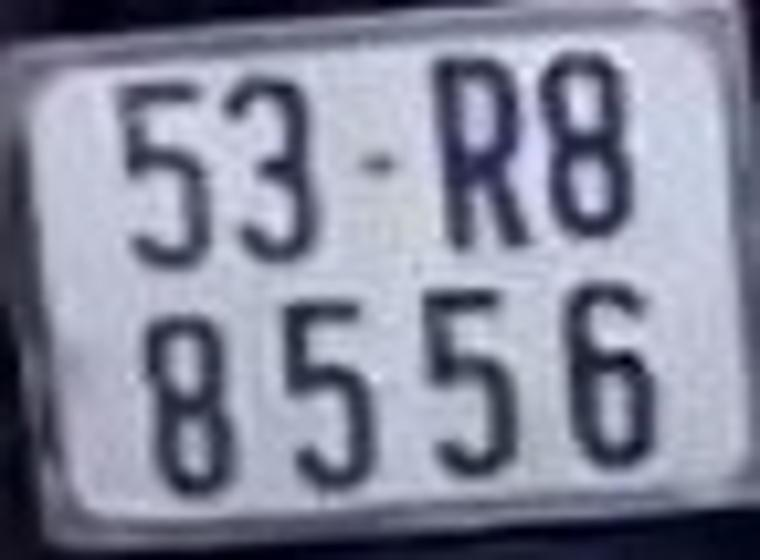-: (349, 146, 400, 172)
3: (222, 77, 319, 262)
5: (410, 287, 517, 473), (111, 81, 215, 269), (279, 295, 377, 492)
6: (551, 283, 658, 471)
8: (133, 315, 238, 495), (539, 52, 633, 237)
R: (424, 56, 529, 248)
